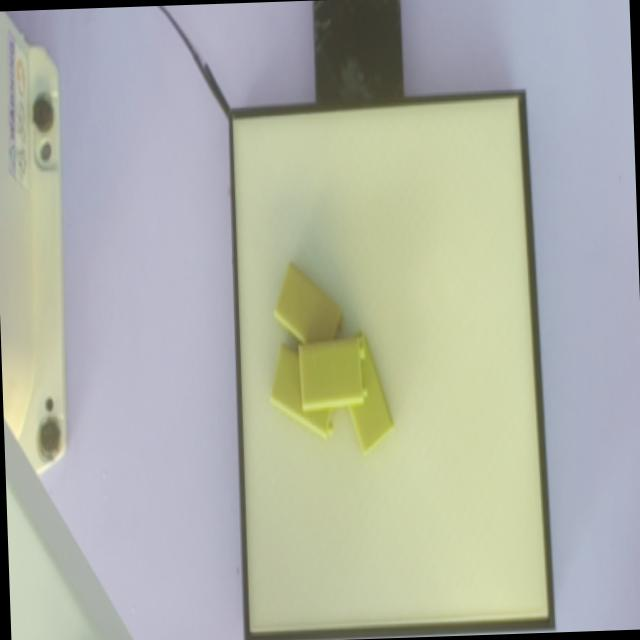bateria: (297, 333, 367, 413)
mesa: (228, 91, 556, 640)
